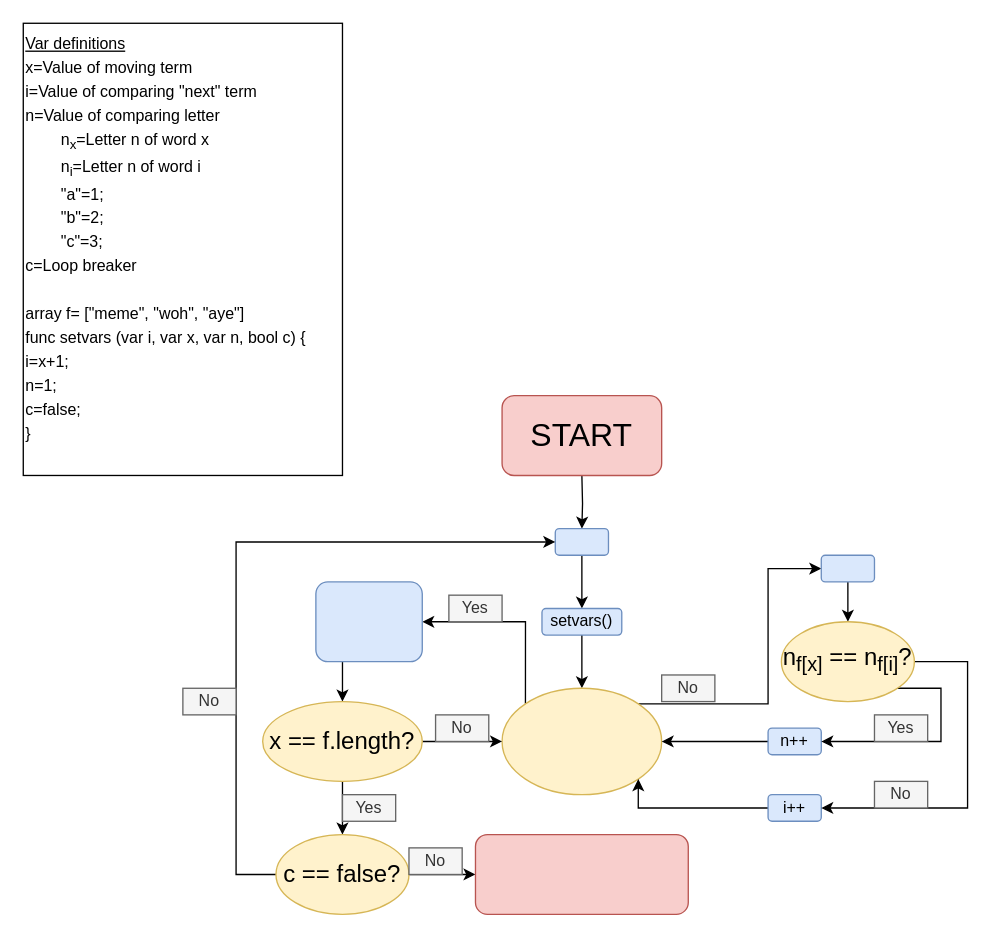
Image size: 1001x938. Some labels were removed from this diagram. Each missing label, with the centre of its shape:
c=true: (847,568)
Delete f[x] and place it at i; x++; setvars();: (368,621)
n f[ x] < n f[ i] ?: (581,741)
print("Done"): (581,873)
x=1: (581,541)
